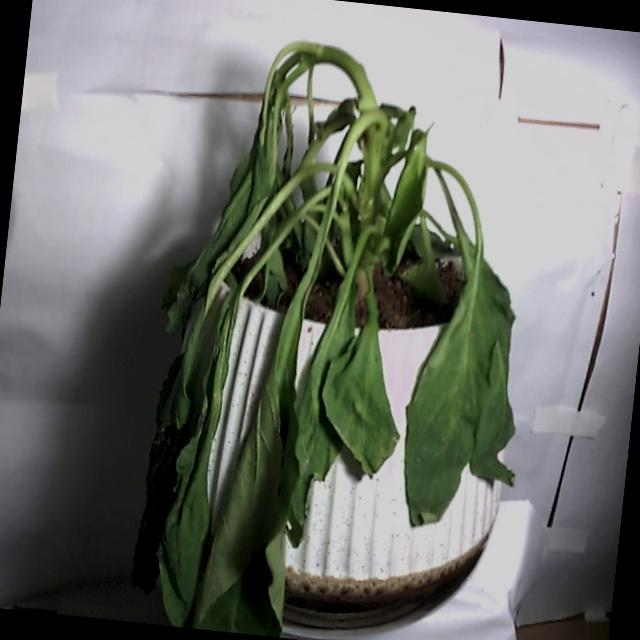Leaf: (192, 311, 316, 638), (397, 270, 502, 536), (292, 296, 414, 486), (158, 311, 229, 624)
